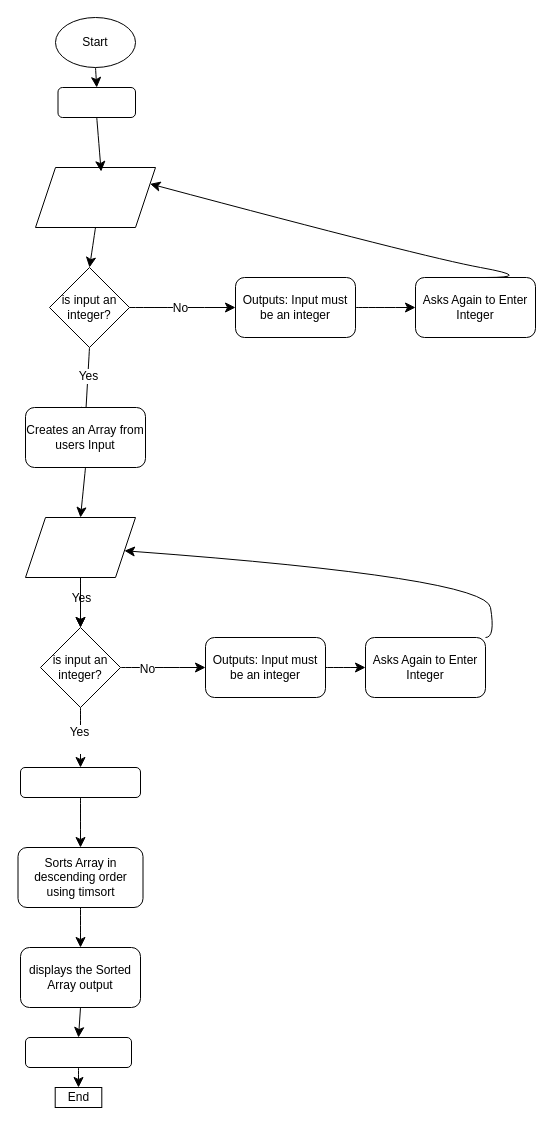
This 553x1125 diagram has some shape labels left out. Each missing label, with the centre of its shape:
Close Scanner: the point at 78,1052
Enter Array Elements: the point at 80,547
Enter Array Size: the point at 95,197
initialize scanner: the point at 96,102
Stores Element in array: the point at 80,782
